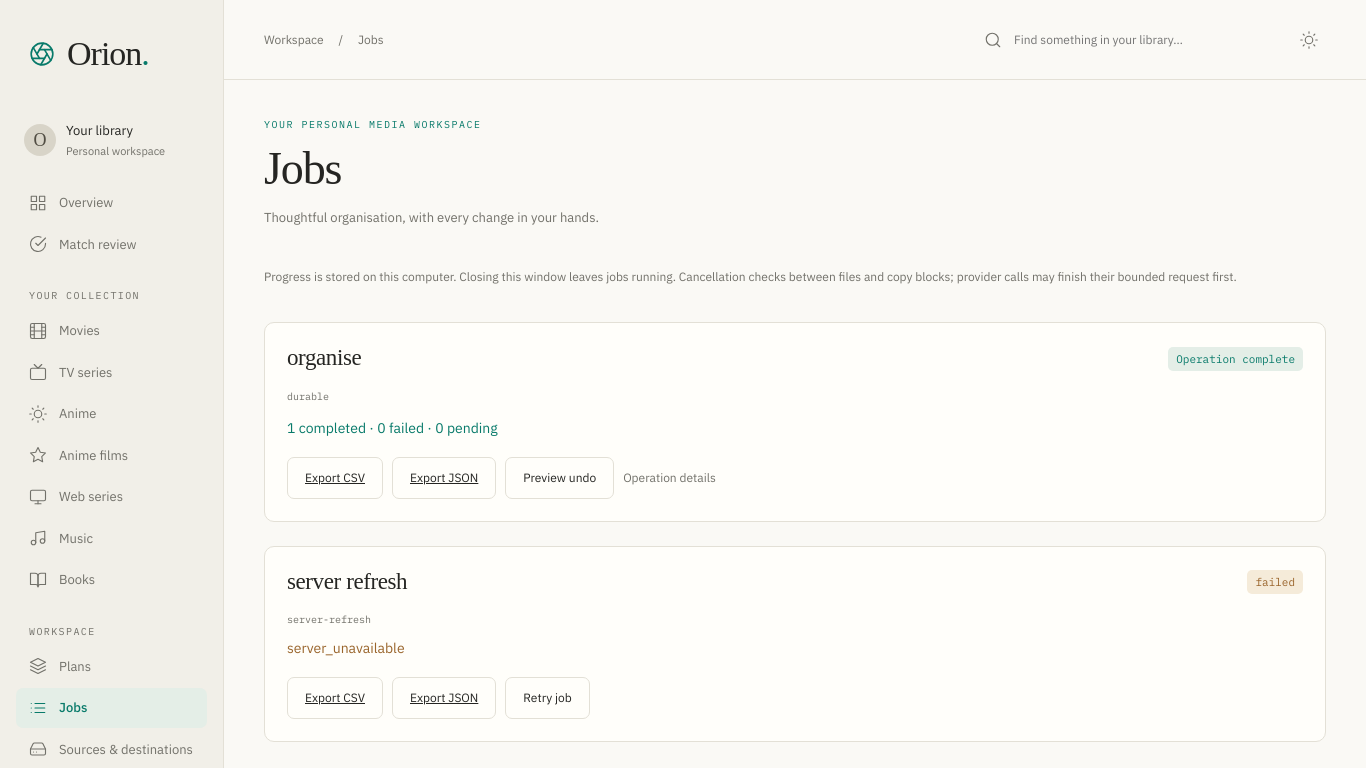
it: undo preview preserves occupied original paths and integration failure remains separate
expect the text "server_unavailable" is shown: met, box [287,639,405,657]
Click the button "Preview undo".
click(560, 478)  # box [505,457,614,499]
(page scrolled)
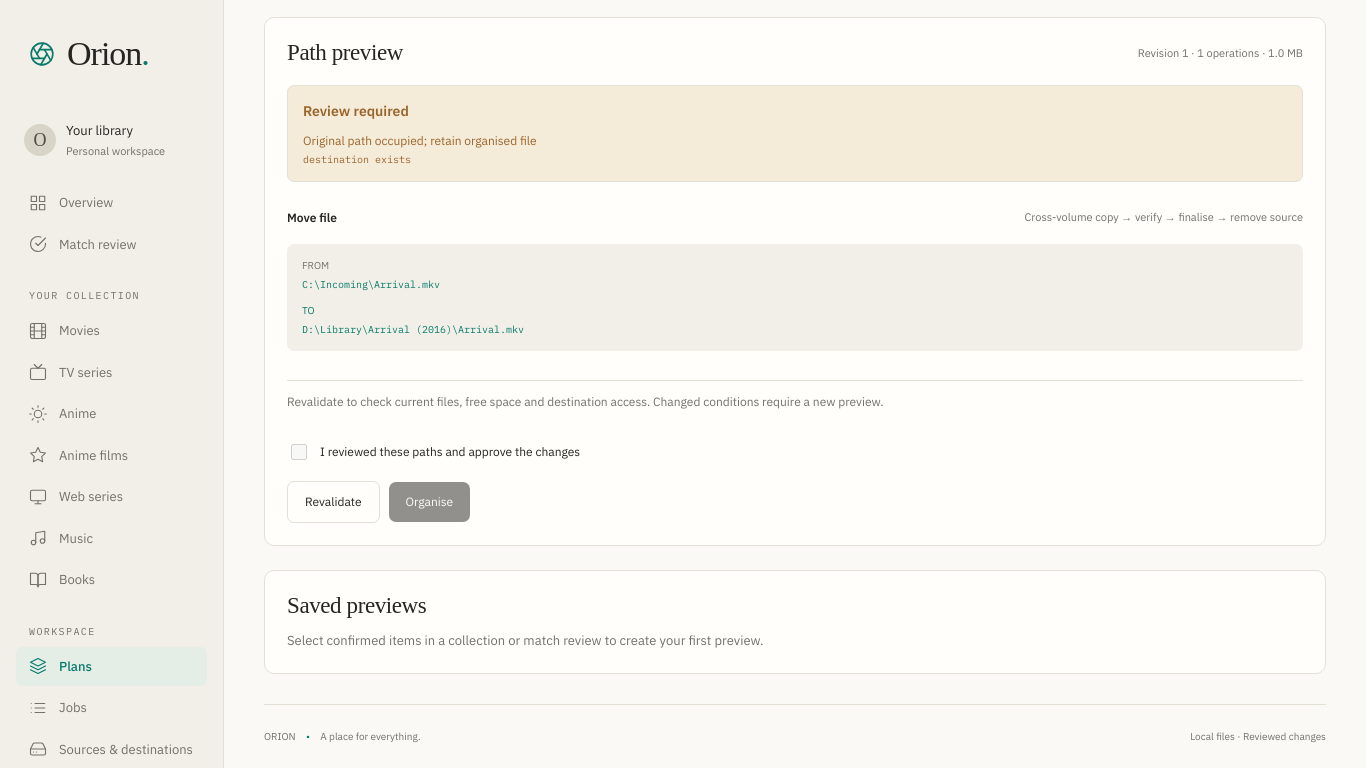
expect the text "Original path occupied; retain organised file" is shown: met, box [303,133,537,148]
expect the button "Organise" is disabled: met, box [389,482,470,522]
